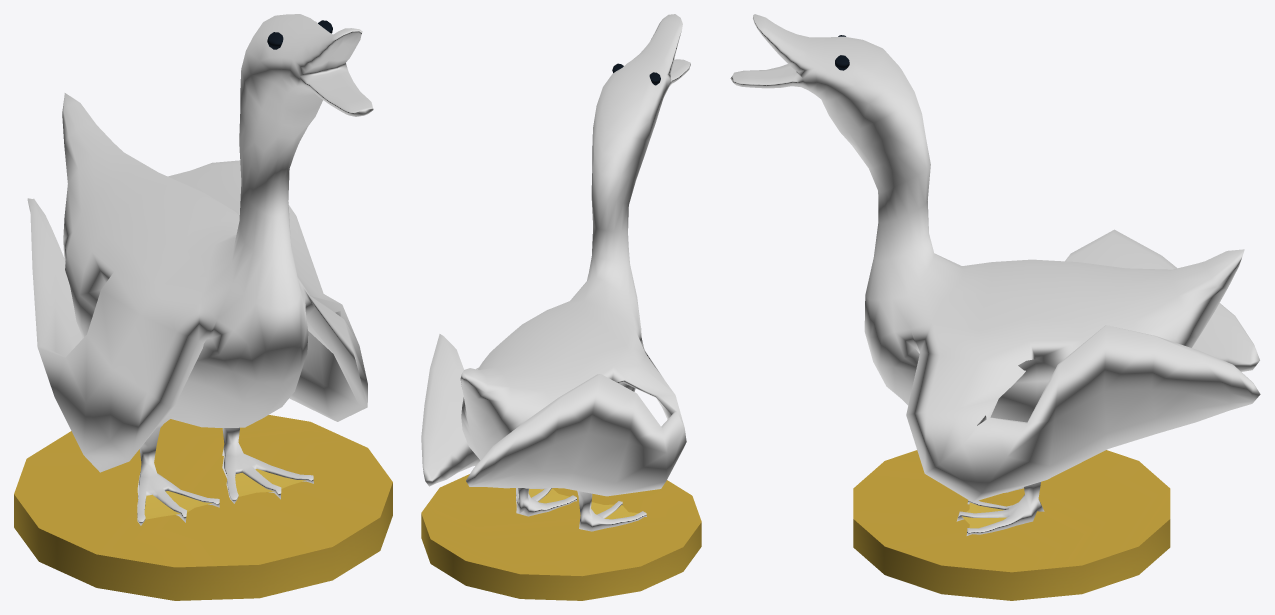
File: Duck_Figure.fbx
3 views of the same model, side by side, from view 1: azimuth 30°, elevation 25°; view 2: azimuth 150°, elevation 25°; view 3: azimuth 270°, elevation 25° (orthographic). The views are drawn at different scales.
Visible parts, largest first — view 1: Cylinder001; view 2: Cylinder001; view 3: Cylinder001.
Boxes of the visible parts, x1,y1,x2,y2 form: Cylinder001: (14,14,392,600); Cylinder001: (421,14,701,600); Cylinder001: (730,14,1260,600).
Bounding box in the file's own units: 60.9 × 107 × 99.37.
